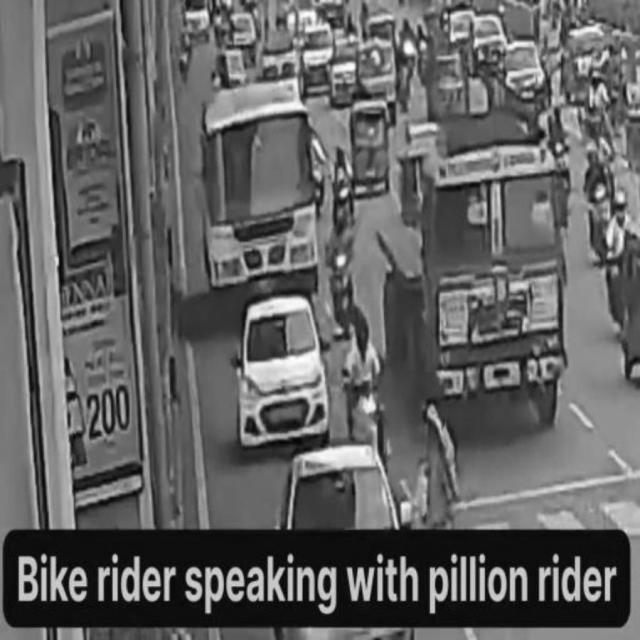person: (413, 382, 464, 532)
vehicle: (422, 153, 566, 411), (277, 448, 411, 640), (206, 105, 316, 289), (236, 303, 327, 435), (343, 312, 389, 456), (325, 203, 363, 333)
